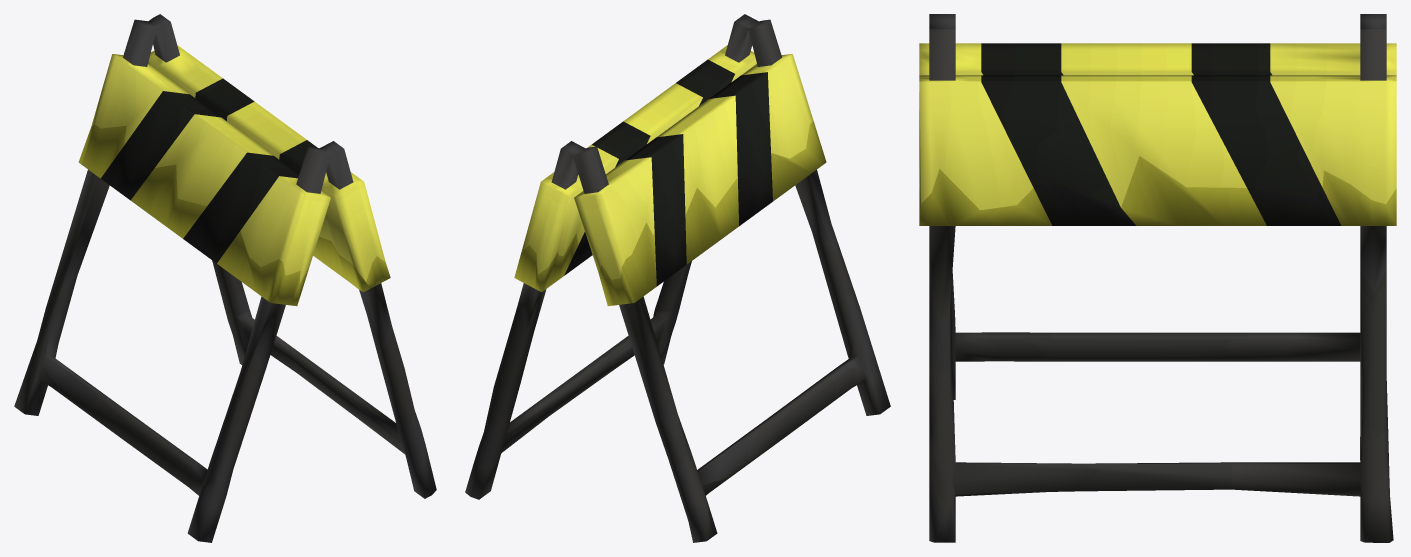
The model's file is road block.glb.
The picture shows the model from 3 angles, left to right: view 1: azimuth 30°, elevation 25°; view 2: azimuth 150°, elevation 25°; view 3: azimuth 270°, elevation 25°; orthographic projection. The views are drawn at different scales.
Parts seen in each view (by area): view 1: road_barrier_1; view 2: road_barrier_1; view 3: road_barrier_1.
Boxes of the visible parts, left/top/right/bottom form: road_barrier_1: left=14, top=14, right=436, bottom=542; road_barrier_1: left=465, top=14, right=890, bottom=542; road_barrier_1: left=919, top=14, right=1396, bottom=542.
Bounding box in the file's own units: 0.7852 × 1.16 × 1.08.
Materials: 1 (1 with a texture image).
